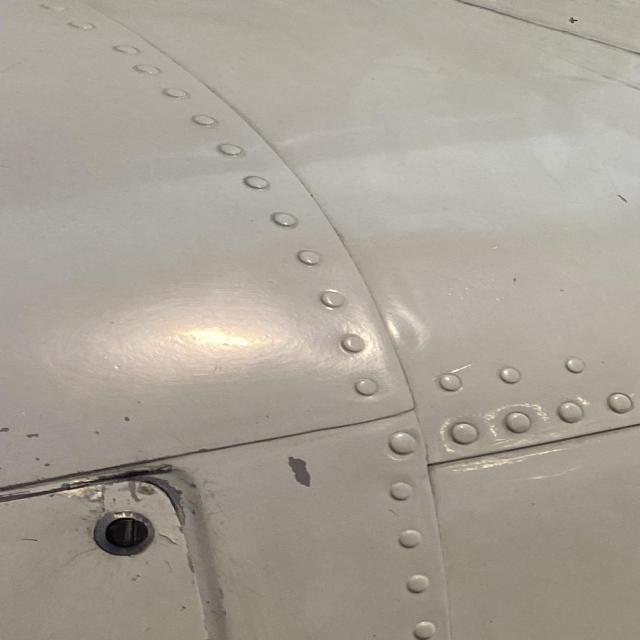Paint-off: (287, 456, 311, 487)
